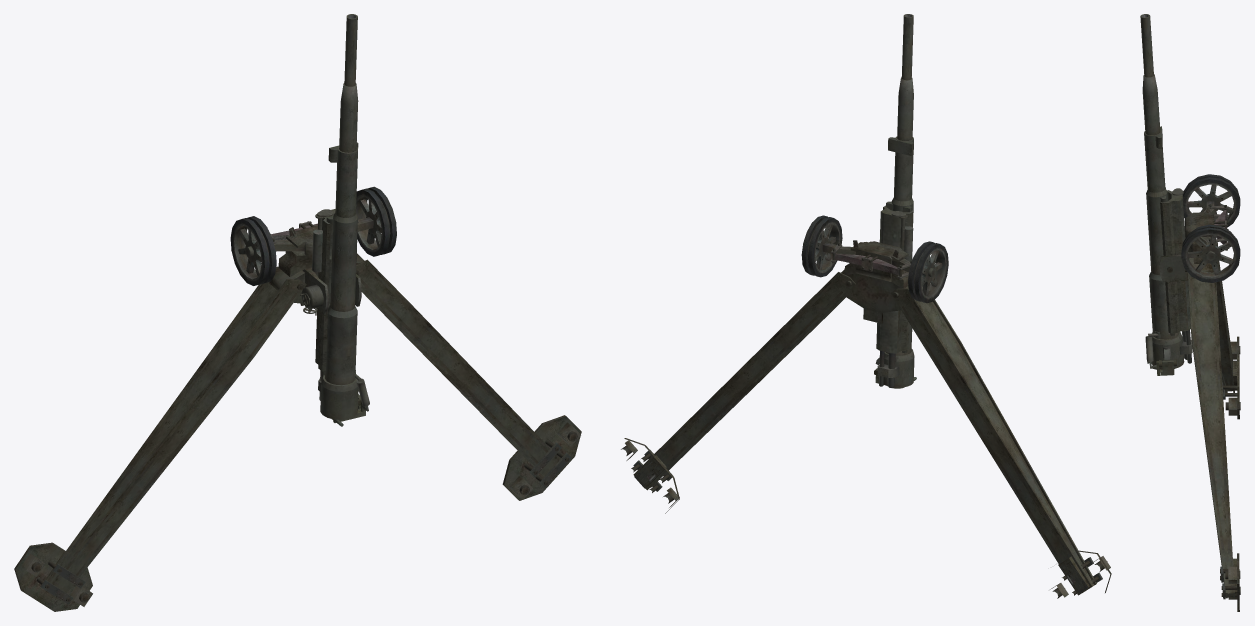
File: german_artillery_155gpf.glb
3 views of the same model, side by side, from view 1: azimuth 30°, elevation 25°; view 2: azimuth 150°, elevation 25°; view 3: azimuth 270°, elevation 25° (orthographic). The views are drawn at different scales.
Bounding box in the file's own units: 563 × 549 × 100.
2 materials, 2 textured.
